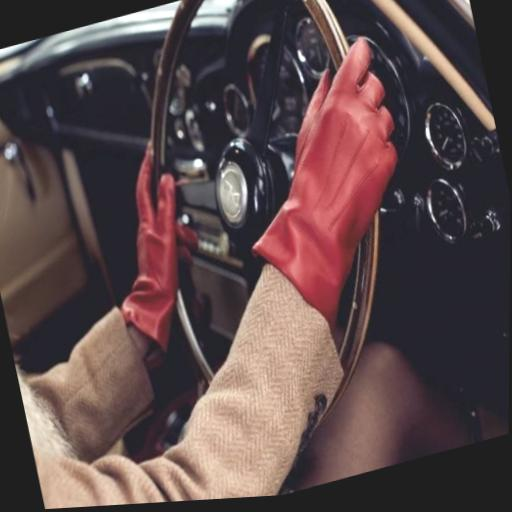Hands-on-the-Wheel: (236, 19, 428, 290), (88, 121, 231, 341)
